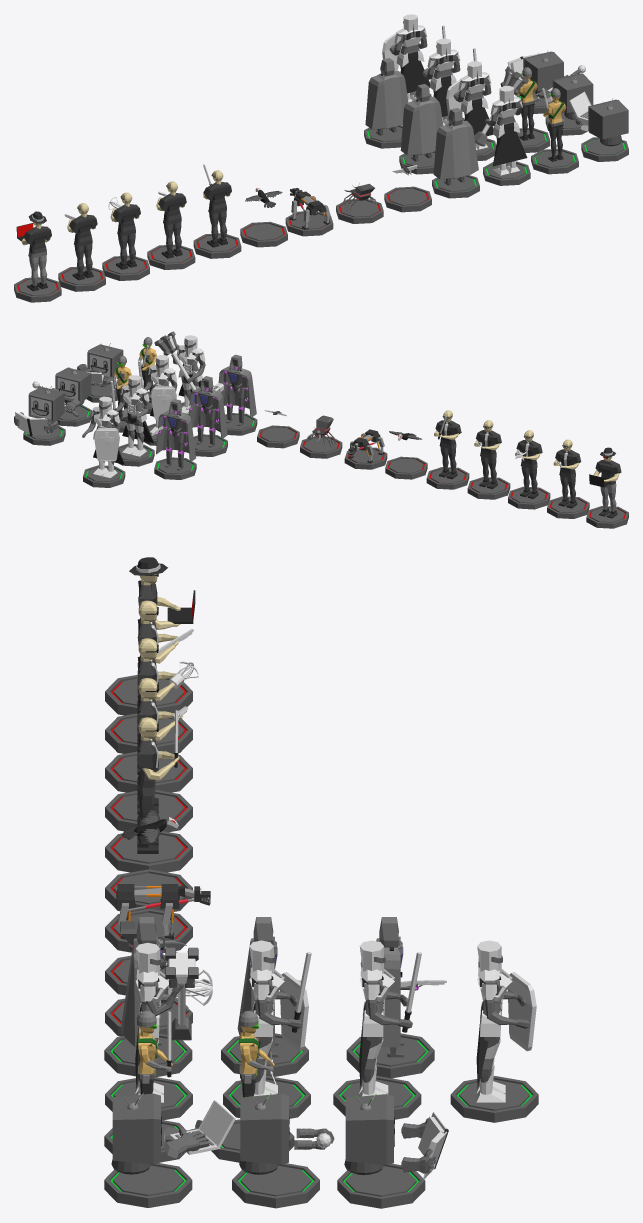
The model's file is Everything.fbx.
3 views of the same model, one above another, from view 1: azimuth 30°, elevation 25°; view 2: azimuth 150°, elevation 25°; view 3: azimuth 270°, elevation 25° (orthographic). The views are drawn at different scales.
Parts seen in each view (by area): view 1: Cylinder.032, Cylinder.022, Cylinder.028, Cylinder.021, Cylinder.027, Cylinder.002, Cylinder.029, Cylinder.012, Cylinder.011, Cylinder.015, Cylinder.016, Cylinder.009 (+10 smaller); view 2: Cylinder.028, Cylinder.029, Cylinder.004, Cylinder.027, Cylinder.022, Cylinder.026, Cylinder.032, Cylinder.001, Cylinder.016, Cylinder.012, Cylinder.015, Cylinder.011 (+10 smaller); view 3: Cylinder.021, Cylinder.026, Cylinder.029, Cylinder.001, Cylinder.002, Cylinder.032, Cylinder.004, Cylinder.016, Cylinder.028, Cylinder.022, Cylinder.018, Cylinder.012 (+9 smaller).
Boxes of the visible parts, x1,y1,x2,y2 form: Cylinder.032: (474, 67, 530, 185); Cylinder.022: (432, 108, 479, 198); Cylinder.028: (364, 58, 408, 148); Cylinder.021: (569, 91, 628, 161); Cylinder.027: (399, 84, 443, 174); Cylinder.002: (446, 48, 496, 160); Cylinder.029: (382, 14, 431, 102); Cylinder.012: (102, 192, 149, 280); Cylinder.011: (58, 203, 105, 291); Cylinder.015: (147, 181, 195, 269); Cylinder.016: (193, 164, 241, 258); Cylinder.009: (531, 88, 578, 174); Cylinder.028: (151, 399, 196, 479); Cylinder.029: (82, 396, 125, 487); Cylinder.004: (110, 375, 154, 466); Cylinder.027: (186, 376, 227, 456); Cylinder.022: (213, 354, 257, 435); Cylinder.026: (14, 386, 65, 445); Cylinder.032: (154, 331, 205, 414); Cylinder.001: (32, 367, 92, 426); Cylinder.016: (426, 410, 469, 489); Cylinder.012: (508, 430, 550, 509); Cylinder.015: (467, 420, 510, 499); Cylinder.011: (547, 439, 589, 518); Cylinder.021: (104, 1093, 235, 1207); Cylinder.026: (337, 1094, 448, 1208); Cylinder.029: (450, 940, 538, 1122); Cylinder.001: (232, 1093, 334, 1208); Cylinder.002: (223, 940, 311, 1118); Cylinder.032: (105, 942, 198, 1120); Cylinder.004: (333, 940, 421, 1119); Cylinder.016: (105, 710, 192, 872); Cylinder.028: (346, 917, 446, 1078); Cylinder.022: (104, 917, 212, 1076); Cylinder.018: (105, 884, 210, 953); Cylinder.012: (105, 638, 198, 792).
Bounding box in the file's own units: 6.68 × 1.01 × 2.29.
